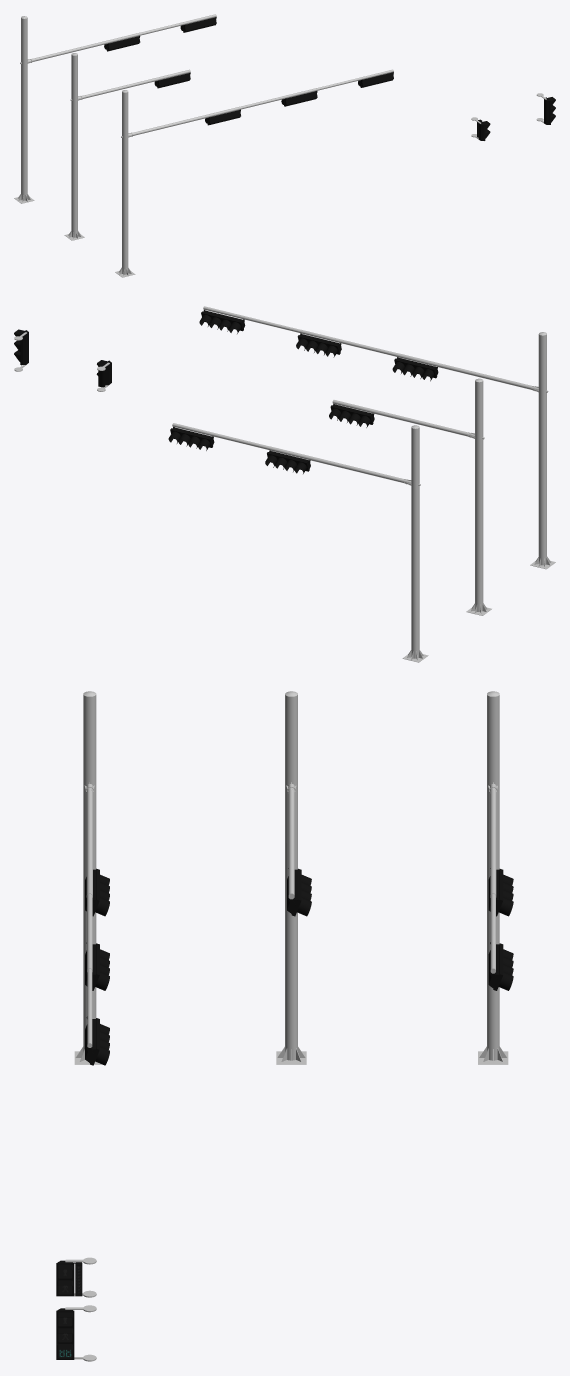
File: TrafficLight_Variants.fbx
3 renders of one model, top to bottom at view 1: azimuth 30°, elevation 25°; view 2: azimuth 150°, elevation 25°; view 3: azimuth 270°, elevation 25°, orthographic. The views are drawn at different scales.
Visible parts, largest first — view 1: Metal, Metal.002, Metal.001, Black, Black.002, Cylinder005.0; view 2: Metal, Metal.002, Metal.001, Black, Black.002, Black.001, Cylinder005.0; view 3: Metal.001, Metal.002, Metal, Black, Black.002, Cylinder005.0, Black.001.
Part boxes in pixels (x1,y1,x2,y2): Metal: (115, 69, 393, 277); Metal.002: (14, 14, 216, 203); Metal.001: (64, 53, 190, 240); Black: (205, 72, 393, 125); Black.002: (104, 17, 216, 51); Cylinder005.0: (536, 93, 555, 124); Metal: (203, 306, 555, 569); Metal.002: (172, 423, 428, 662); Metal.001: (332, 378, 491, 615); Black: (199, 310, 438, 381); Black.002: (168, 427, 310, 473); Black.001: (329, 404, 374, 427); Cylinder005.0: (14, 329, 28, 371); Metal.001: (276, 691, 306, 1064); Metal.002: (478, 691, 508, 1064); Metal: (74, 691, 101, 1064); Black: (85, 868, 109, 1065); Black.002: (488, 868, 513, 990); Cylinder005.0: (56, 1305, 96, 1361); Black.001: (287, 868, 311, 916).
Bounding box in the file's own units: 19.66 × 8 × 9.07.
